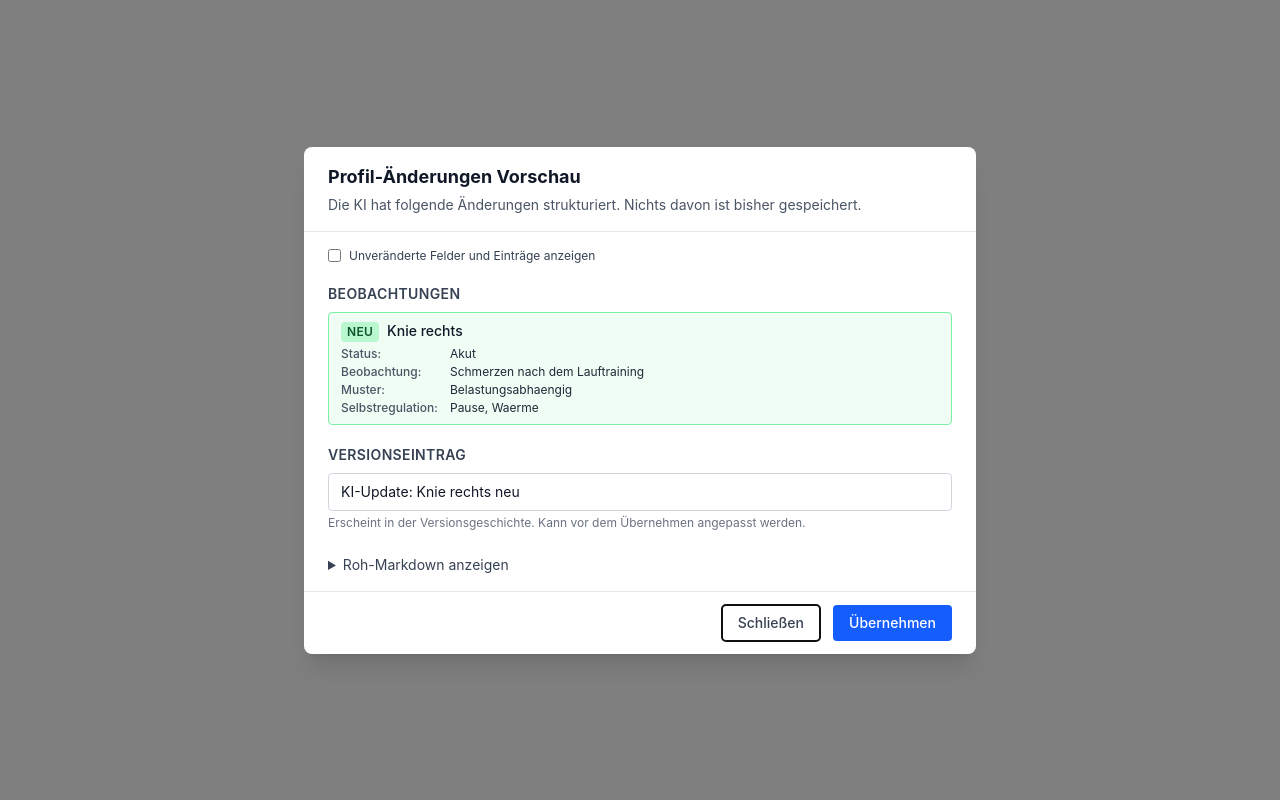
Test: CommitPreviewModal (diff view) › commit failure keeps the modal open and shows an inline error banner
The image size is (1280, 800).
Expected: the element with test id "commit-preview-version" is shown, [328,444,952,530]
Click the button "Übernehmen".
click(892, 622)  # box [833,604,952,640]
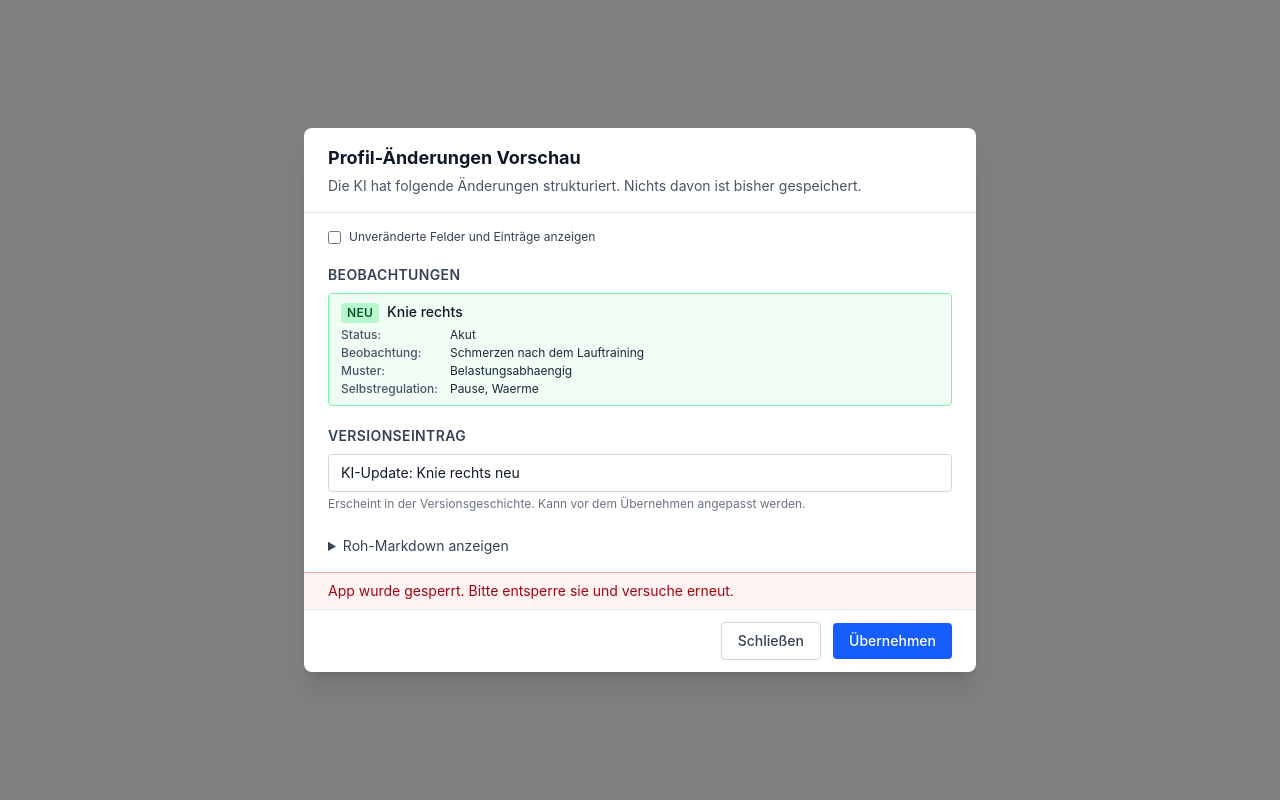
Expected: the message "App wurde gesperrt. Bitte entsperre sie und versuche erneut." is shown, [304,572,976,609]
